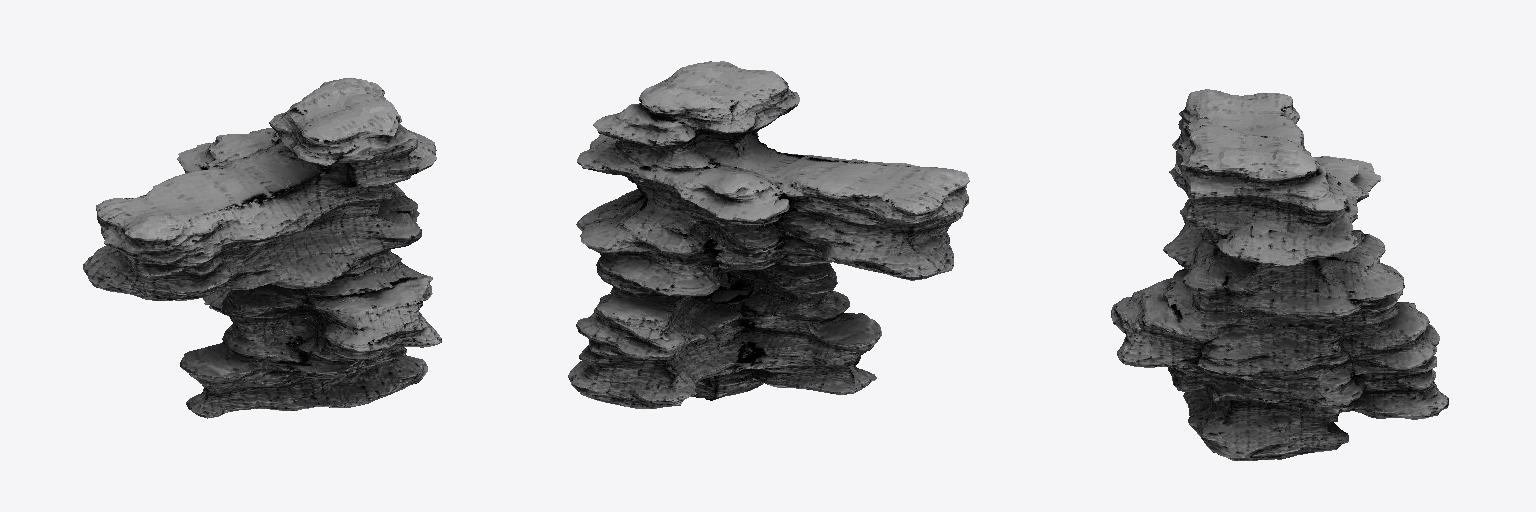
3 views of the same model, side by side, from view 1: azimuth 30°, elevation 25°; view 2: azimuth 150°, elevation 25°; view 3: azimuth 270°, elevation 25° (orthographic).
Visible parts, largest first — view 1: pn_bmk_rock_low_poly.002_Cube.015; view 2: pn_bmk_rock_low_poly.002_Cube.015; view 3: pn_bmk_rock_low_poly.002_Cube.015.
Part boxes in pixels (x1,y1,x2,y2): pn_bmk_rock_low_poly.002_Cube.015: (83, 78, 441, 418); pn_bmk_rock_low_poly.002_Cube.015: (568, 61, 969, 408); pn_bmk_rock_low_poly.002_Cube.015: (1111, 89, 1448, 460).
Size of the model in its own units: 0.6314 by 0.5162 by 0.5353.
1 materials, 1 textured.